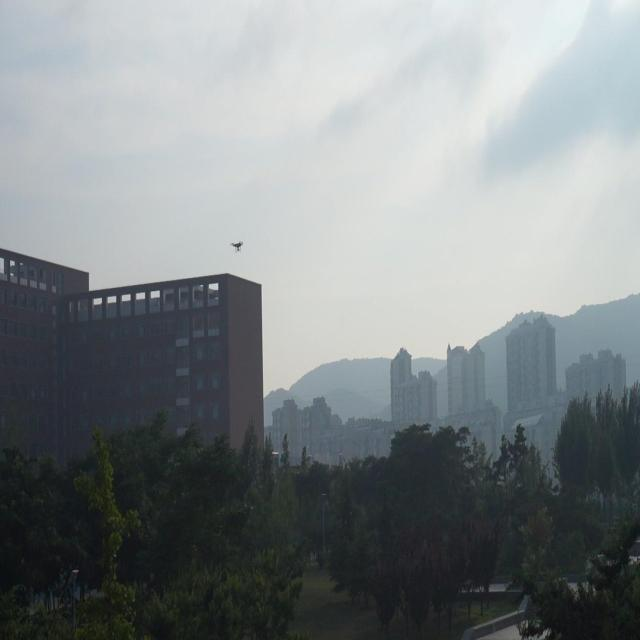drone: (228, 238, 246, 258)
